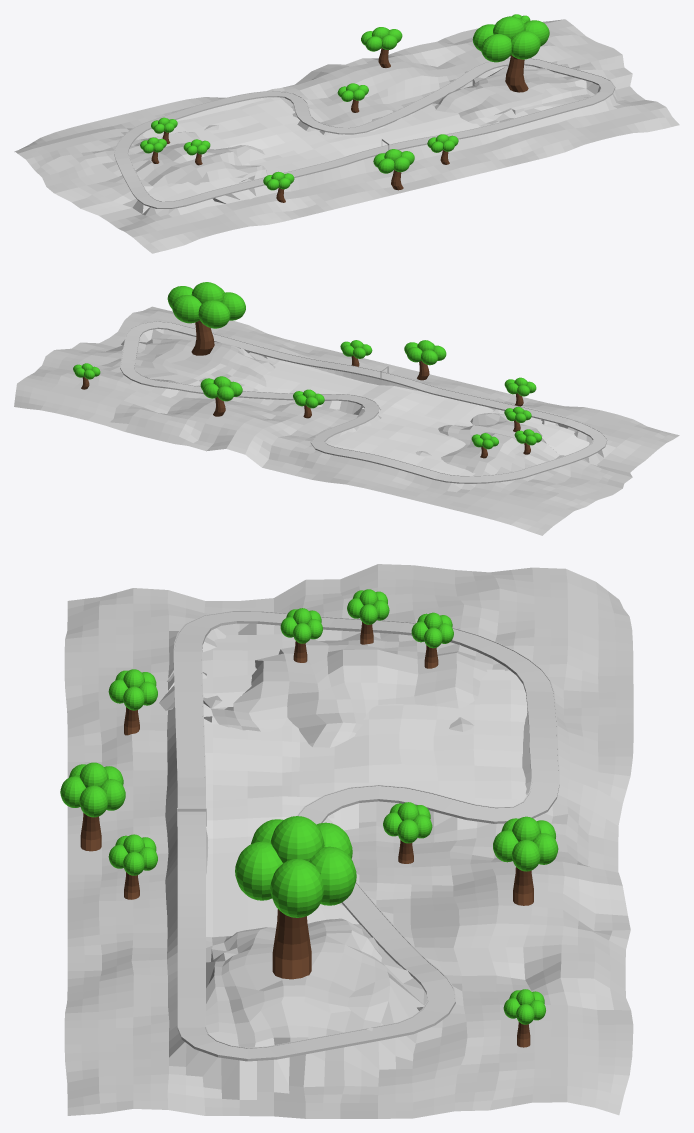
File: Track.fbx
3 renders of one model, top to bottom at view 1: azimuth 30°, elevation 25°; view 2: azimuth 150°, elevation 25°; view 3: azimuth 270°, elevation 25°, orthographic. The views are drawn at different scales.
Visible parts, largest first — view 1: Plane, Plane.001, Cube, Cylinder.002, Cylinder.007, Cylinder.001, Cylinder.009, Cylinder.008, Cylinder.006, Cylinder.005, Cylinder.004, Cylinder.003; view 2: Plane, Plane.001, Cube, Cylinder.002, Cylinder.007, Cylinder.001, Cylinder.009, Cylinder.006, Cylinder.008, Cylinder.000, Cylinder.005, Cylinder.003 (+1 smaller); view 3: Plane, Plane.001, Cube, Cylinder.002, Cylinder.007, Cylinder.001, Cylinder.009, Cylinder.008, Cylinder.006, Cylinder.000, Cylinder.003, Cylinder.005 (+1 smaller).
Boxes of the visible parts, box(x1,y1,x2,y2) form: Plane: box(14, 19, 679, 253); Plane.001: box(143, 97, 480, 201); Cube: box(114, 58, 615, 208); Cylinder.002: box(472, 16, 549, 92); Cylinder.007: box(373, 149, 414, 190); Cylinder.001: box(361, 27, 402, 67); Cylinder.009: box(263, 171, 294, 202); Cylinder.008: box(427, 134, 458, 164); Cylinder.006: box(337, 83, 368, 112); Cylinder.005: box(140, 137, 166, 163); Cylinder.004: box(183, 139, 210, 165); Cylinder.003: box(151, 117, 177, 143); Plane: box(14, 306, 679, 535); Plane.001: box(257, 360, 589, 475); Cube: box(120, 321, 607, 483); Cylinder.002: box(167, 282, 245, 355); Cylinder.007: box(404, 340, 446, 380); Cylinder.001: box(200, 376, 242, 416); Cylinder.009: box(504, 377, 536, 406); Cylinder.006: box(293, 389, 324, 418); Cylinder.008: box(340, 340, 372, 366); Cylinder.000: box(73, 363, 100, 389); Cylinder.005: box(514, 429, 541, 454); Cylinder.003: box(471, 433, 498, 458); Plane: box(64, 564, 633, 1118); Plane.001: box(202, 634, 527, 936); Cube: box(173, 611, 559, 1061); Cylinder.002: box(235, 816, 356, 979); Cylinder.007: box(60, 762, 125, 851); Cylinder.001: box(493, 816, 558, 905); Cylinder.009: box(108, 669, 157, 735); Cylinder.008: box(108, 834, 157, 899); Cylinder.006: box(383, 802, 432, 863); Cylinder.000: box(503, 989, 545, 1047); Cylinder.003: box(411, 612, 453, 668); Cylinder.005: box(347, 589, 389, 644).
Size of the model in its own units: 73869 by 11612 by 32254.
